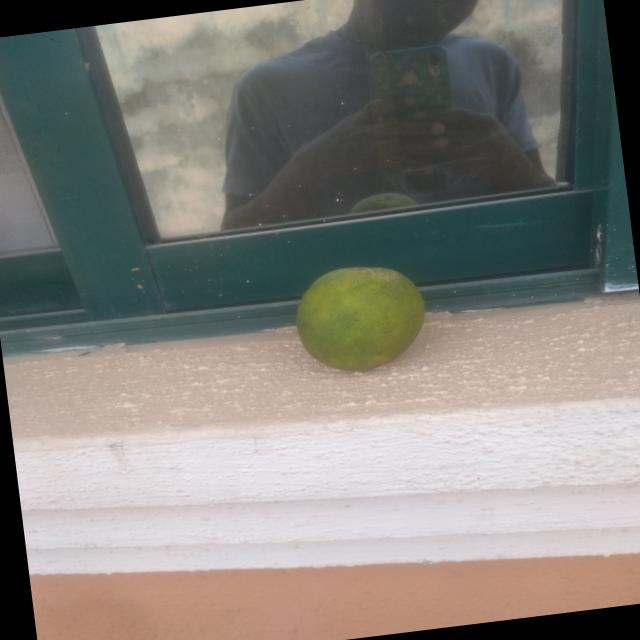agrume: (278, 242, 459, 382)
